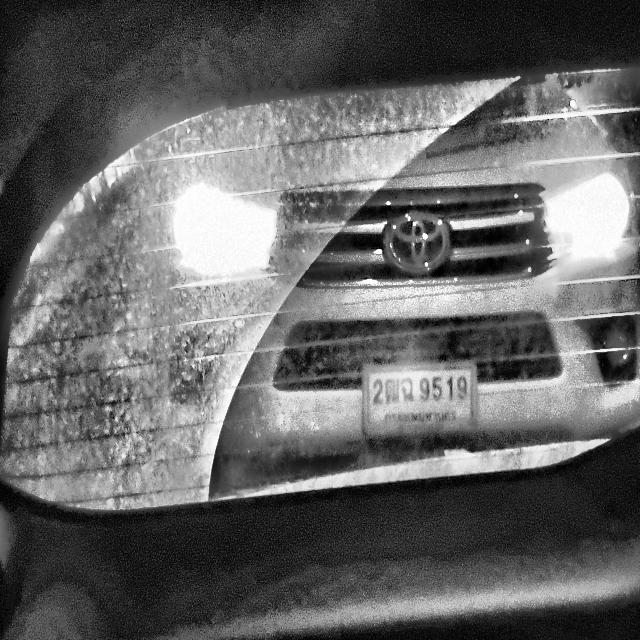license-plate: (358, 358, 482, 444)
